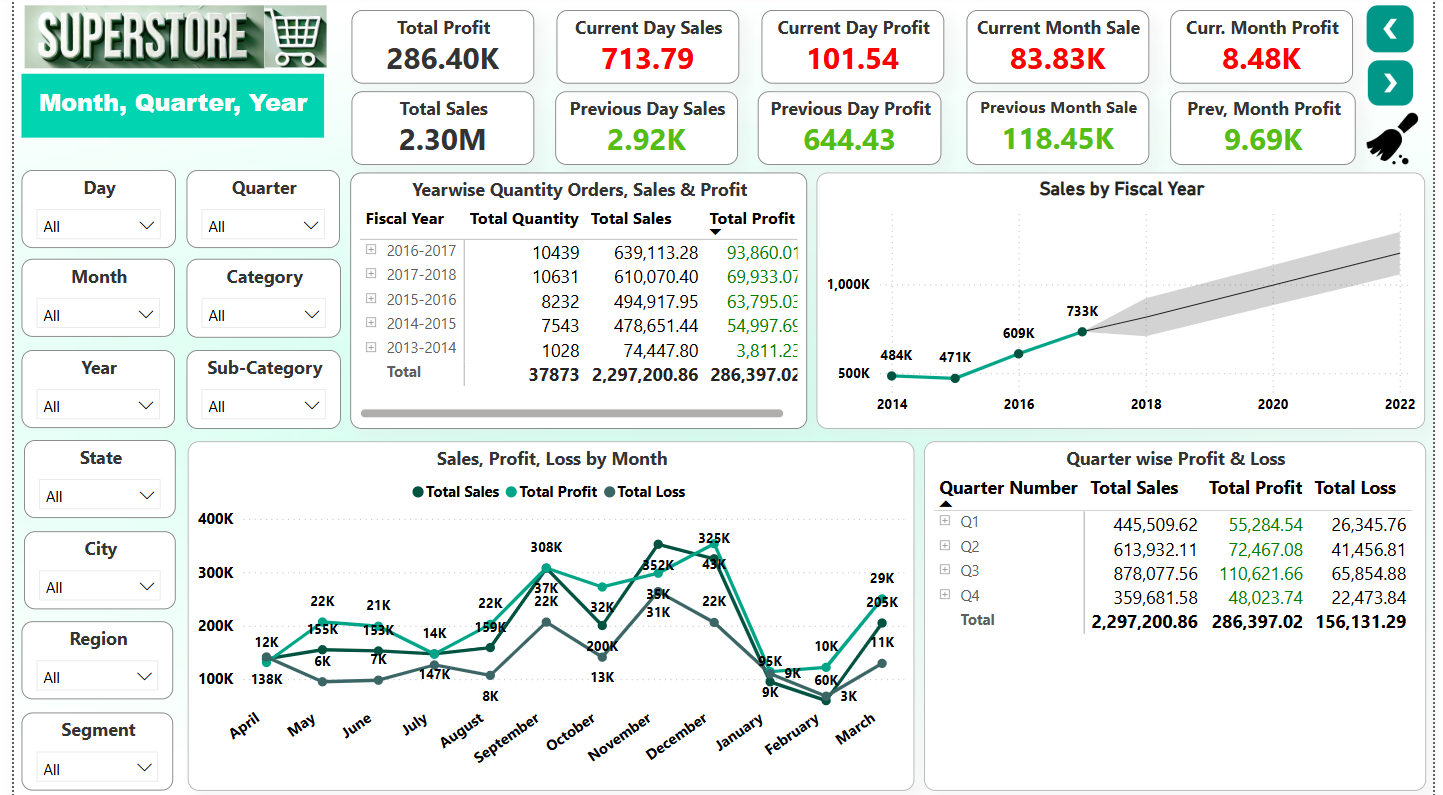

What the dashboard file says about the page in this screenshot:
{"tool":"powerbi","page":{"name":"Month, Quarter and Year","canvas":[1280,720],"ordinal":3},"visuals":[{"type":"textbox","box":[7.2,66.4,272.7,57.7],"z":0},{"type":"slicer","title":"Day","fields":{"Values":["Fiscal year Table.Date.Variation.Date Hierarchy.Day"]},"box":[7.2,152.9,139,70],"z":1000},{"type":"slicer","title":"Quarter","fields":{"Values":["Fiscal year Table.Quarter Number"]},"box":[155.8,152.9,138.5,70.7],"z":2000},{"type":"slicer","title":"Region","fields":{"Values":["Sample_ Superstore.Region"]},"box":[7.2,560.4,137.1,70.7],"z":3000},{"type":"slicer","title":"Segment","fields":{"Values":["Sample_ Superstore.Segment"]},"box":[7.2,642,137.1,70.7],"z":4000},{"type":"slicer","title":"City","fields":{"Values":["Sample_ Superstore.City"]},"box":[8.7,478.8,137.1,70.7],"z":5000},{"type":"slicer","title":"State","fields":{"Values":["Sample_ Superstore.State"]},"box":[8.7,397.1,137.1,70.7],"z":6000},{"type":"slicer","title":"Year","fields":{"Values":["Fiscal year Table.Fiscal Year"]},"box":[7.2,315.5,138.5,70.7],"z":7000},{"type":"slicer","title":"Month","fields":{"Values":["Fiscal year Table.Month Name"]},"box":[7.2,233.9,138.5,70.7],"z":8000},{"type":"slicer","title":"Sub-Category","fields":{"Values":["Sample_ Superstore.Sub-Category"]},"box":[155.3,315.5,139.4,70.9],"z":9000},{"type":"slicer","title":"Category","fields":{"Values":["Sample_ Superstore.Category"]},"box":[155.3,233.6,139.4,70.9],"z":10000},{"type":"card","title":"Total Profit","fields":{"Values":["Sample_ Superstore.Total Profit"]},"box":[304.4,8.7,164.5,66.4],"z":11000},{"type":"card","title":"Total Sales","fields":{"Values":["Sample_ Superstore.Total Sales"]},"box":[304.4,82.2,164.5,66.4],"z":12000},{"type":"card","title":"Previous Day Sales","fields":{"Values":["Sample_ Superstore.Previous Day Sales"]},"box":[487.7,82.2,164.5,66.4],"z":13000},{"type":"card","title":"Current Day Sales","fields":{"Values":["Sample_ Superstore.Current Date Sales"]},"box":[489.1,8.7,164.5,66.4],"z":14000},{"type":"card","title":"Previous Day Profit","fields":{"Values":["Sample_ Superstore.Previous Day Profit"]},"box":[670.9,82.2,165.9,66.4],"z":15000},{"type":"card","title":"Current Day Profit","fields":{"Values":["Sample_ Superstore.Current Day Profit"]},"box":[673.8,8.7,164.5,66.4],"z":16000},{"type":"card","title":"Previous Month Sale","fields":{"Values":["Sample_ Superstore.Previous Month Sales"]},"box":[858.4,82.2,164.5,66.4],"z":17000},{"type":"card","title":"Current Month Sale","fields":{"Values":["Sample_ Superstore.Current Month Sales (Selected)"]},"box":[858.4,8.7,164.5,66.4],"z":18000},{"type":"image","box":[0,0,235.2,66.4],"z":19000,"group":"g1"},{"type":"card","title":"Prev, Month Profit","fields":{"Values":["Sample_ Superstore.Previous Month Profit"]},"box":[1043.1,82.2,167.4,66.4],"z":19000},{"type":"card","title":"Curr. Month Profit","fields":{"Values":["Sample_ Superstore.Current Month Profit"]},"box":[1043.1,8.7,164.5,66.4],"z":20000},{"type":"image","box":[1207.6,49.1,67.8,50.5],"z":21000},{"type":"image","box":[1211.9,0,59.2,51.9],"z":22000},{"type":"pivotTable","title":"Yearwise Quantity Orders, Sales & Profit","fields":{"Rows":["Fiscal year Table.Fiscal Year","Sample_ Superstore.Category"],"Values":["Sample_ Superstore.Sum of Orders","Sample_ Superstore.Total Sales","Sample_ Superstore.Total Profit"]},"box":[303.3,155.3,412.1,231.1],"z":23000},{"type":"image","box":[218.9,0,69.7,66],"z":24000,"group":"g1"},{"type":"lineChart","title":" Sales by Fiscal Year","fields":{"Y":["Sum(Sample_ Superstore.Sales)"],"Category":["Fiscal year Table.Date.Variation.Date Hierarchy.Year"]},"box":[723.9,155.3,549.1,231.1],"z":24000},{"type":"lineChart","title":"Sales, Profit, Loss by Month","fields":{"Category":["Fiscal year Table.Month Name"],"Y":["Sample_ Superstore.Total Sales"],"Y2":["Sample_ Superstore.Total Profit","Sample_ Superstore.Total Loss"]},"box":[156.5,397.4,655.4,315.5],"z":25000},{"type":"pivotTable","title":"Quarter wise Profit & Loss","fields":{"Rows":["Fiscal year Table.Quarter Number","Fiscal year Table.Fiscal Month"],"Values":["Sample_ Superstore.Total Sales","Sample_ Superstore.Total Profit","Sample_ Superstore.Total Loss"]},"box":[820.5,397.4,452.4,315.5],"z":26000},{"type":"image","box":[1211.9,96.7,62,56.3],"z":27000},{"type":"group","id":"g1","title":"Group 1","box":[0,0,288.6,66.4],"z":28000}]}

Visuals, with their boxes in screenshot pixels (x1, y1, x2, y2), scaled from the page's 1280x720 canvas onto the 1443x795 screenshot:
textbox: locate(8, 73, 316, 137)
"Day" slicer: locate(8, 169, 165, 246)
"Quarter" slicer: locate(176, 169, 332, 247)
"Region" slicer: locate(8, 619, 163, 697)
"Segment" slicer: locate(8, 709, 163, 787)
"City" slicer: locate(10, 529, 164, 607)
"State" slicer: locate(10, 438, 164, 517)
"Year" slicer: locate(8, 348, 164, 426)
"Month" slicer: locate(8, 258, 164, 336)
"Sub-Category" slicer: locate(175, 348, 332, 427)
"Category" slicer: locate(175, 258, 332, 336)
"Total Profit" card: locate(343, 10, 529, 83)
"Total Sales" card: locate(343, 91, 529, 164)
"Previous Day Sales" card: locate(550, 91, 735, 164)
"Current Day Sales" card: locate(551, 10, 737, 83)
"Previous Day Profit" card: locate(756, 91, 943, 164)
"Current Day Profit" card: locate(760, 10, 945, 83)
"Previous Month Sale" card: locate(968, 91, 1153, 164)
"Current Month Sale" card: locate(968, 10, 1153, 83)
image: locate(0, 0, 265, 73)
"Prev, Month Profit" card: locate(1176, 91, 1365, 164)
"Curr. Month Profit" card: locate(1176, 10, 1361, 83)
image: locate(1361, 54, 1438, 110)
image: locate(1366, 0, 1433, 57)
"Yearwise Quantity Orders, Sales & Profit" pivotTable: locate(342, 171, 807, 427)
image: locate(247, 0, 325, 73)
" Sales by Fiscal Year" lineChart: locate(816, 171, 1435, 427)
"Sales, Profit, Loss by Month" lineChart: locate(176, 439, 915, 787)
"Quarter wise Profit & Loss" pivotTable: locate(925, 439, 1435, 787)
image: locate(1366, 107, 1436, 169)
"Group 1" group: locate(0, 0, 325, 73)
